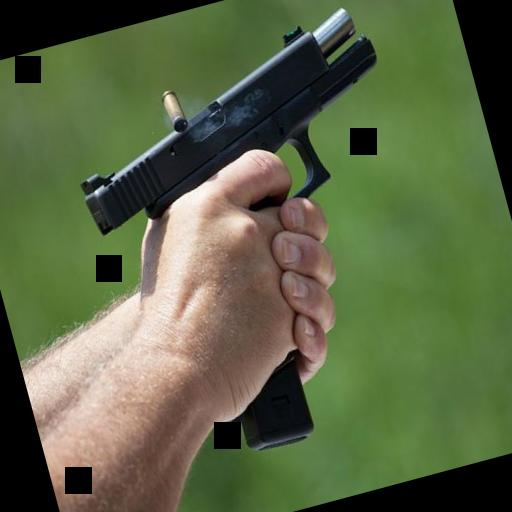Handgun: (45, 0, 473, 471)
